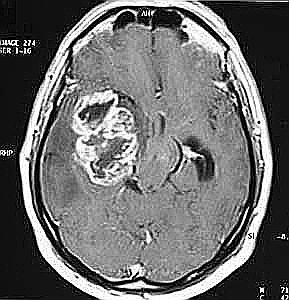Tumor: (66, 90, 149, 189)
